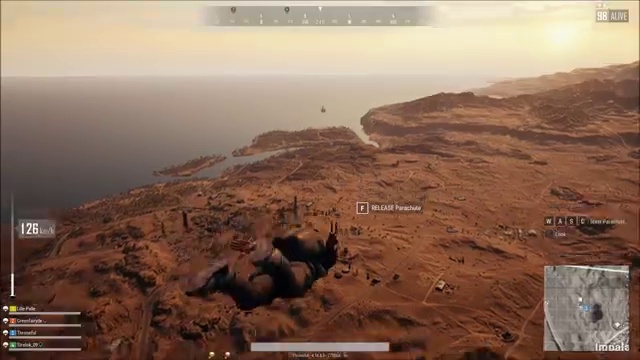Player: (144, 217, 358, 315)
